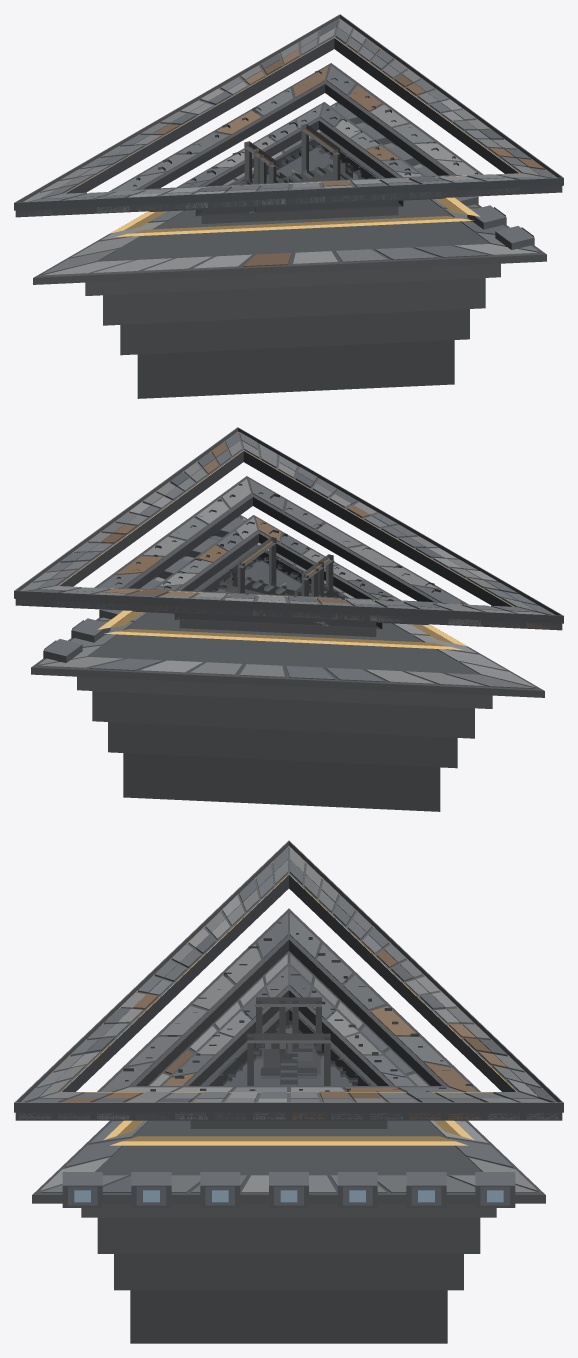
Rendered from rainbow_phi.glb.
3 views of the same model, one above another, from view 1: azimuth 30°, elevation 25°; view 2: azimuth 150°, elevation 25°; view 3: azimuth 270°, elevation 25° (orthographic). The views are drawn at different scales.
Visible parts, largest first — view 1: keel, hull_ring, lower_hull, terraces, core_emblem, hangar_deck, plates_15, engines, plates_14, plates_5, plates_8, plates_6 (+16 smaller); view 2: keel, hull_ring, lower_hull, terraces, core_emblem, plates_0, hangar_deck, engines, plates_1, plates_8, plates_9, gantries (+16 smaller); view 3: keel, hull_ring, lower_hull, terraces, engines, core_emblem, plates_4, plates_11, plates_0, gantries, hangar_deck, plates_12 (+16 smaller).
Boxes of the visible parts, x1,y1,x2,y2 form: keel: [85, 263, 500, 398]; hull_ring: [14, 14, 563, 217]; lower_hull: [33, 102, 546, 284]; terraces: [108, 63, 483, 216]; core_emblem: [110, 197, 479, 236]; hangar_deck: [201, 147, 398, 223]; plates_15: [23, 165, 208, 274]; engines: [332, 105, 534, 249]; plates_14: [80, 135, 230, 240]; plates_5: [396, 156, 556, 255]; plates_8: [345, 69, 448, 168]; plates_6: [372, 129, 531, 234]; keel: [77, 676, 492, 811]; hull_ring: [14, 427, 563, 630]; lower_hull: [31, 515, 544, 697]; terraces: [94, 476, 468, 629]; core_emblem: [98, 610, 467, 649]; plates_0: [369, 567, 554, 687]; hangar_deck: [179, 561, 376, 636]; engines: [43, 518, 245, 662]; plates_1: [338, 546, 497, 653]; plates_8: [87, 512, 219, 621]; plates_9: [46, 543, 205, 647]; gantries: [237, 537, 333, 596]; keel: [81, 1203, 496, 1343]; hull_ring: [14, 840, 563, 1120]; lower_hull: [32, 951, 545, 1203]; terraces: [97, 908, 480, 1091]; engines: [62, 1172, 515, 1207]; core_emblem: [104, 1120, 473, 1145]; plates_4: [36, 1023, 195, 1167]; plates_11: [355, 1037, 541, 1191]; plates_0: [226, 847, 288, 1023]; gantries: [247, 997, 330, 1085]; hangar_deck: [190, 1027, 387, 1128]; plates_12: [338, 992, 491, 1143].
Bounding box in the file's own units: 3255 × 1606 × 2880.
